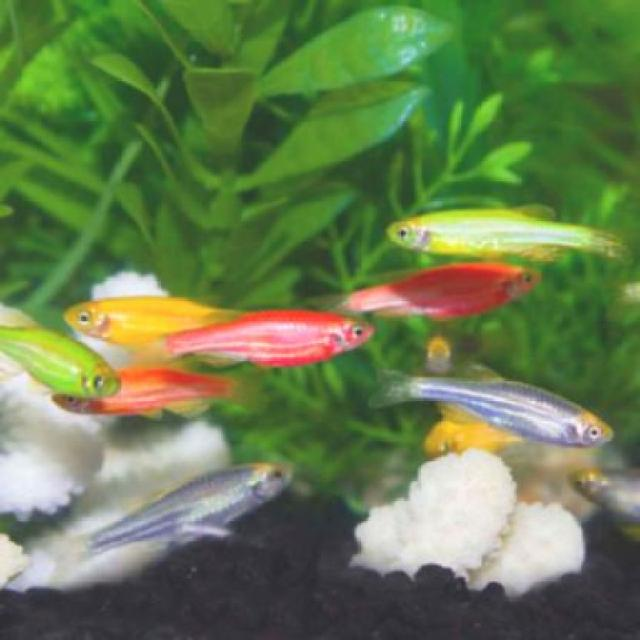ZebraFish: (87, 460, 298, 558), (408, 360, 620, 454), (388, 203, 630, 262), (160, 305, 374, 369)
